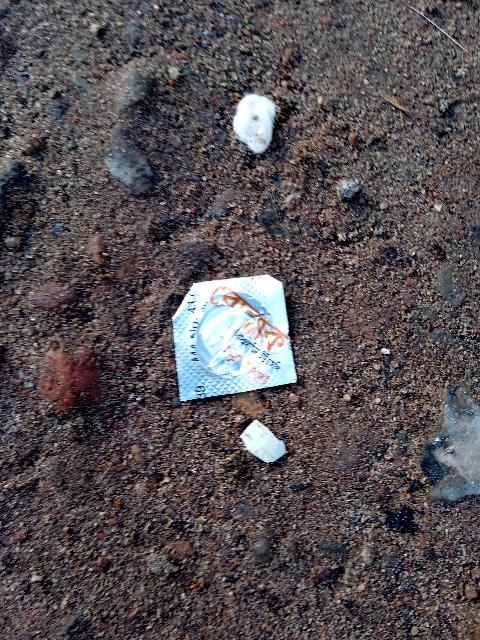medicine: (167, 278, 306, 401)
